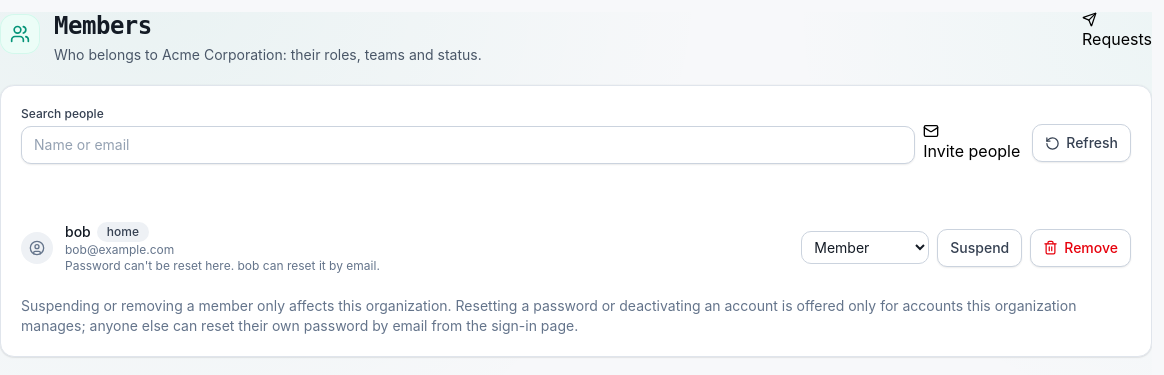
OrgUsersPage › suspends after confirming, through the org-scoped route
Click the button "Suspend": x=980, y=248 left=937, top=229, right=1022, bottom=267
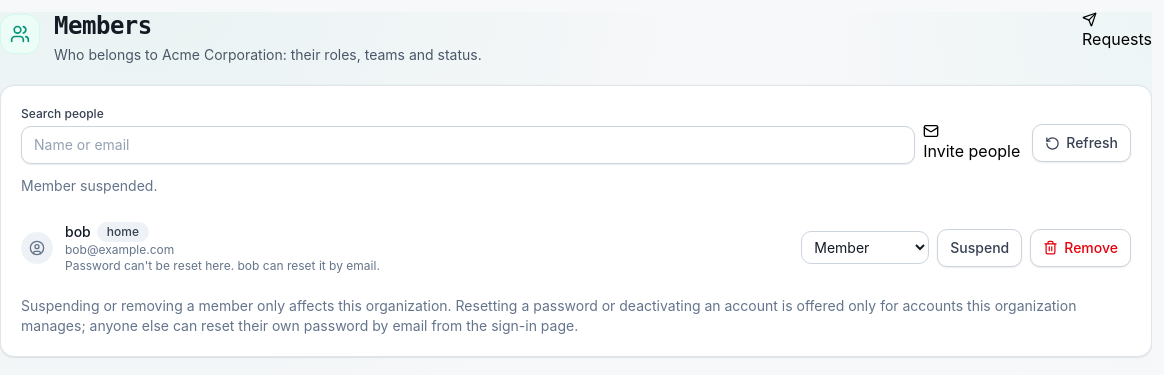
Expected: the text "Member suspended." is shown, left=21, top=177, right=157, bottom=194
